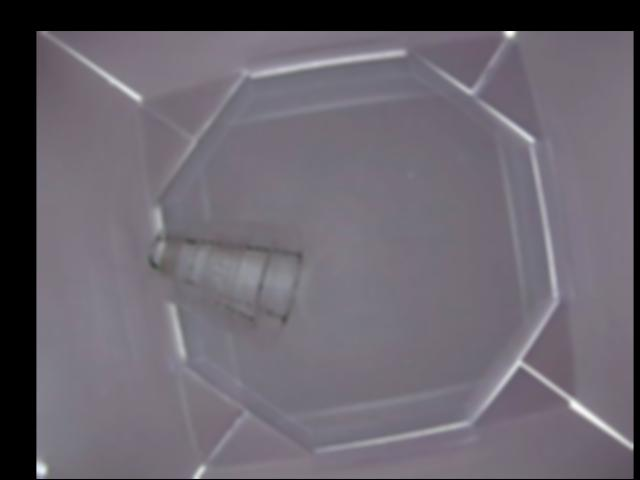Cup: (146, 220, 303, 331)
